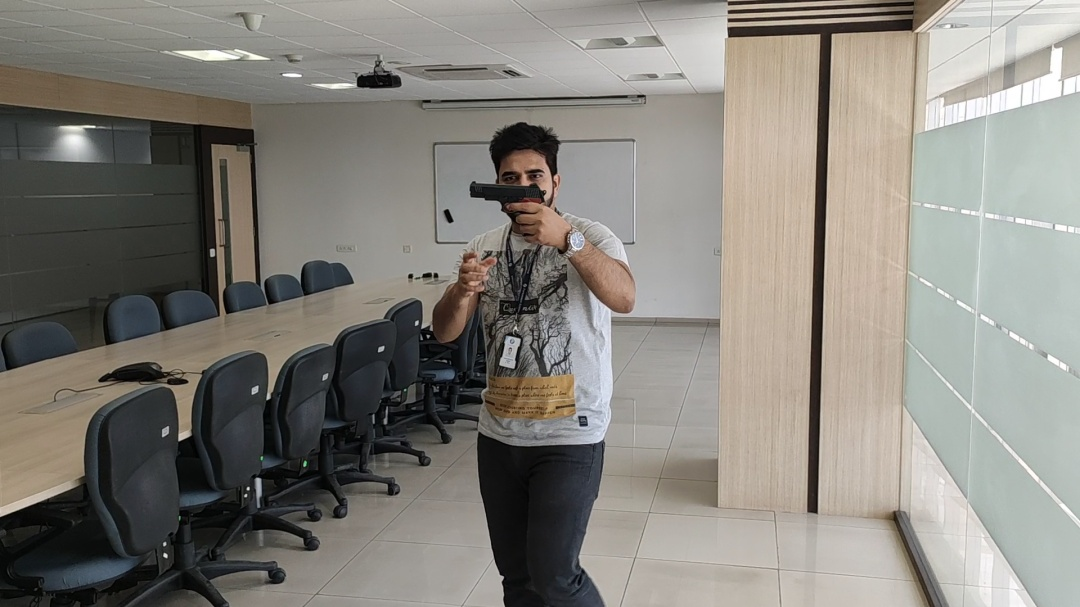gun: (470, 181, 546, 213)
